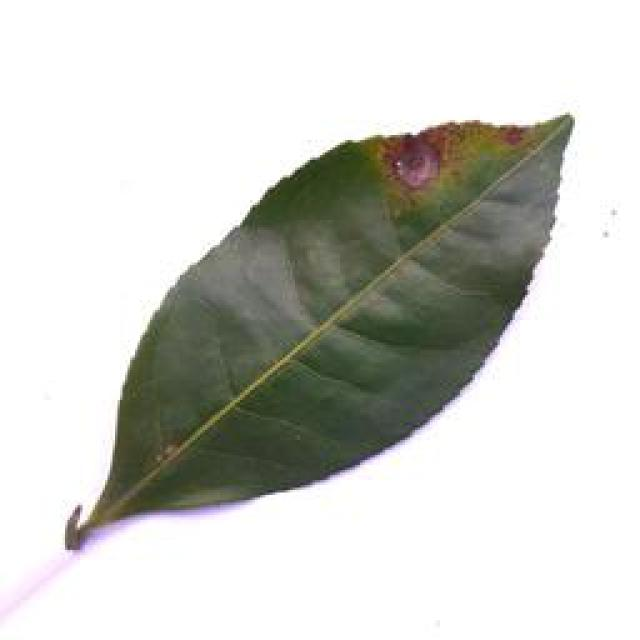Gray Blight: (61, 114, 576, 554)
